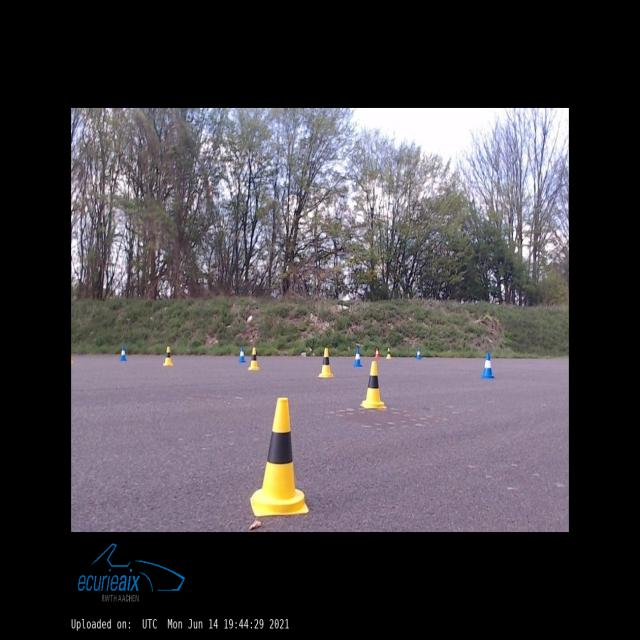blue_cone: (482, 353, 494, 378), (353, 349, 362, 366), (120, 346, 126, 360), (239, 348, 245, 362), (416, 348, 421, 359)
orange_cone: (375, 348, 379, 358)
yellow_cone: (250, 398, 309, 516), (361, 362, 387, 408), (319, 348, 333, 377), (249, 348, 259, 369), (163, 347, 173, 365), (386, 348, 391, 358)
